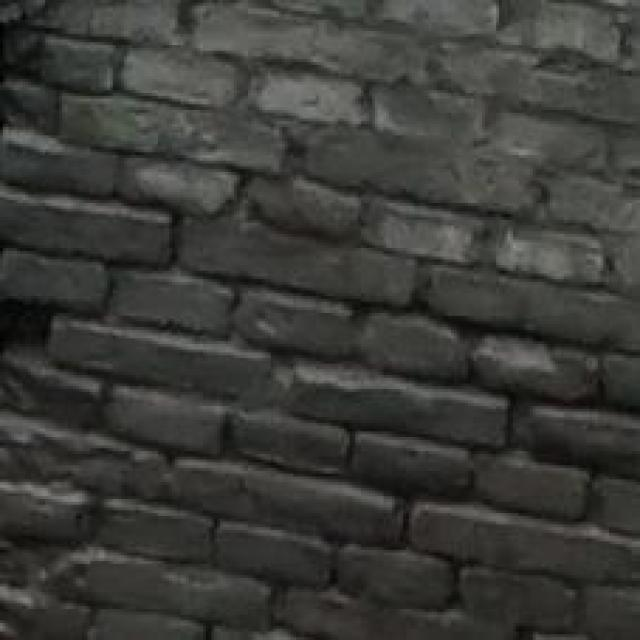Crack: (351, 297, 640, 546)
